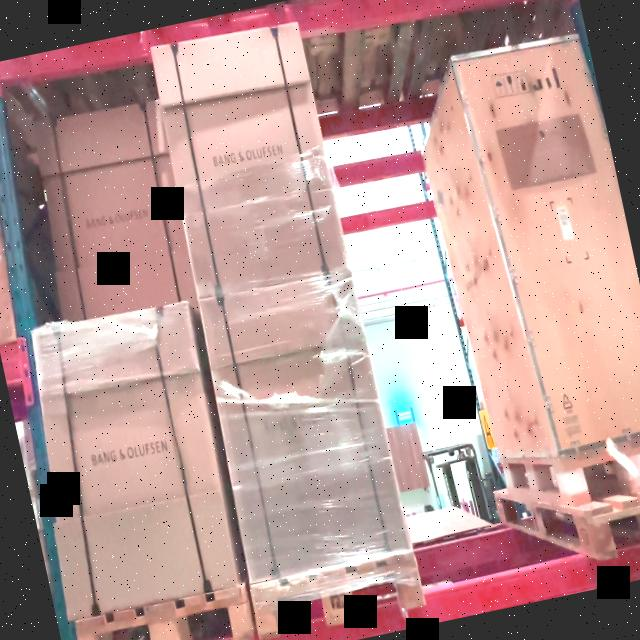box: (198, 267, 410, 583), (31, 302, 237, 621), (153, 23, 348, 298), (35, 99, 199, 322)
